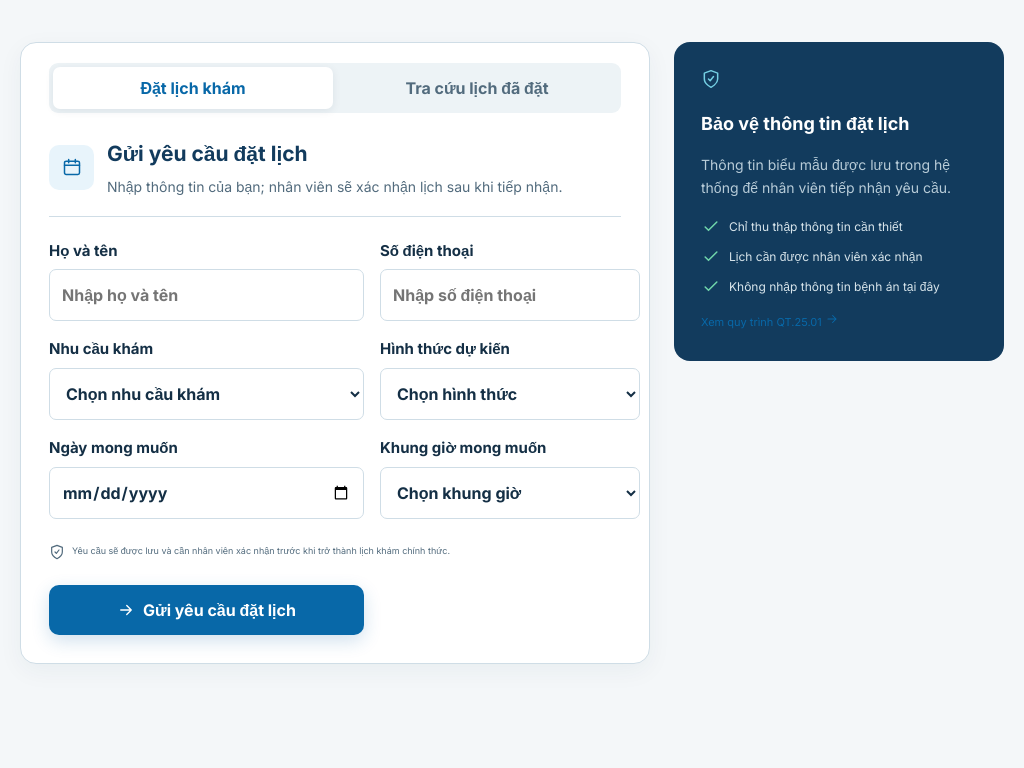
Test: Các luồng tiếng Việt hoàn chỉnh › lưu yêu cầu đặt lịch và giải thích rõ trạng thái
Type "Nguyễn Văn An" into the field labelled "Họ và tên" at (206,296), box [49,270,364,322]
Type "0987 000 042" into the field labelled "Số điện thoại" at (510,296), box [380,270,640,322]
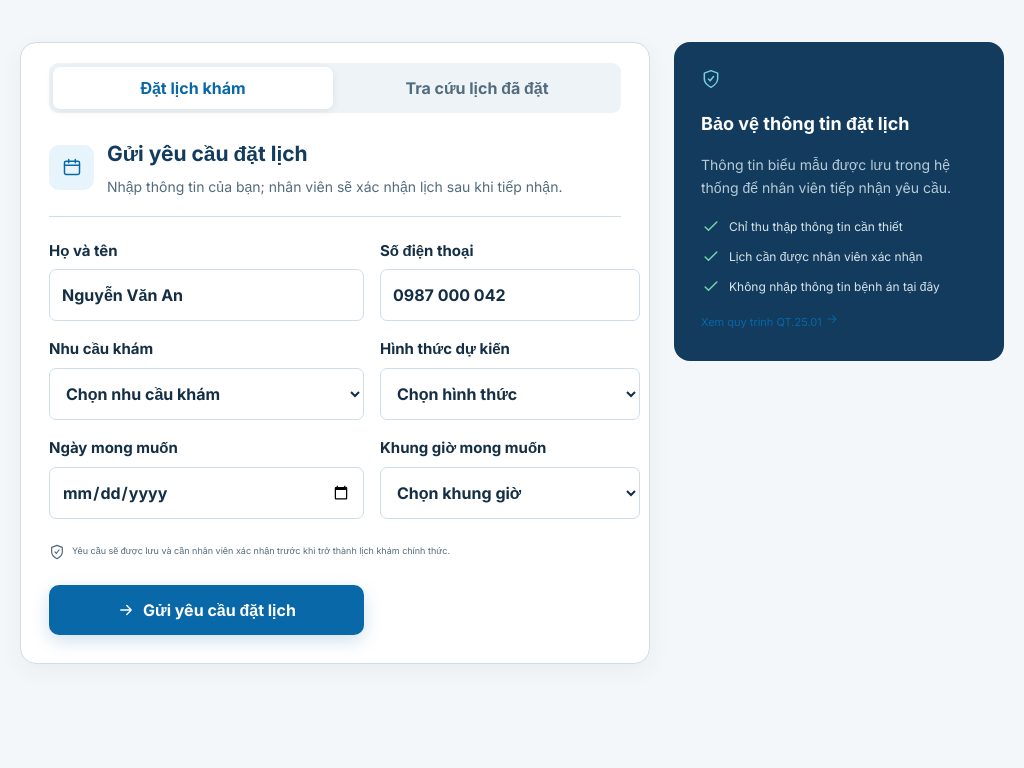
Select "Khám Tim mạch tổng quát" in the dropdown labelled "Nhu cầu khám" at (206,394), box [49,368,364,420]
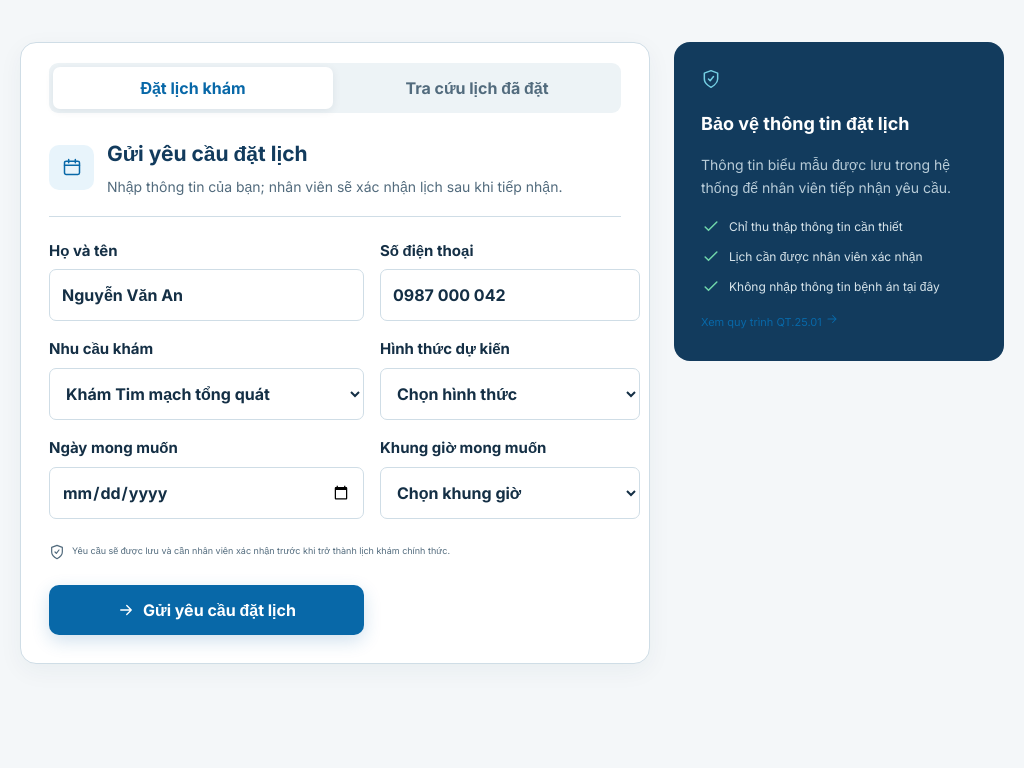
Select "Bảo hiểm y tế" in the dropdown labelled "Hình thức dự kiến" at (510,394), box [380,368,640,420]
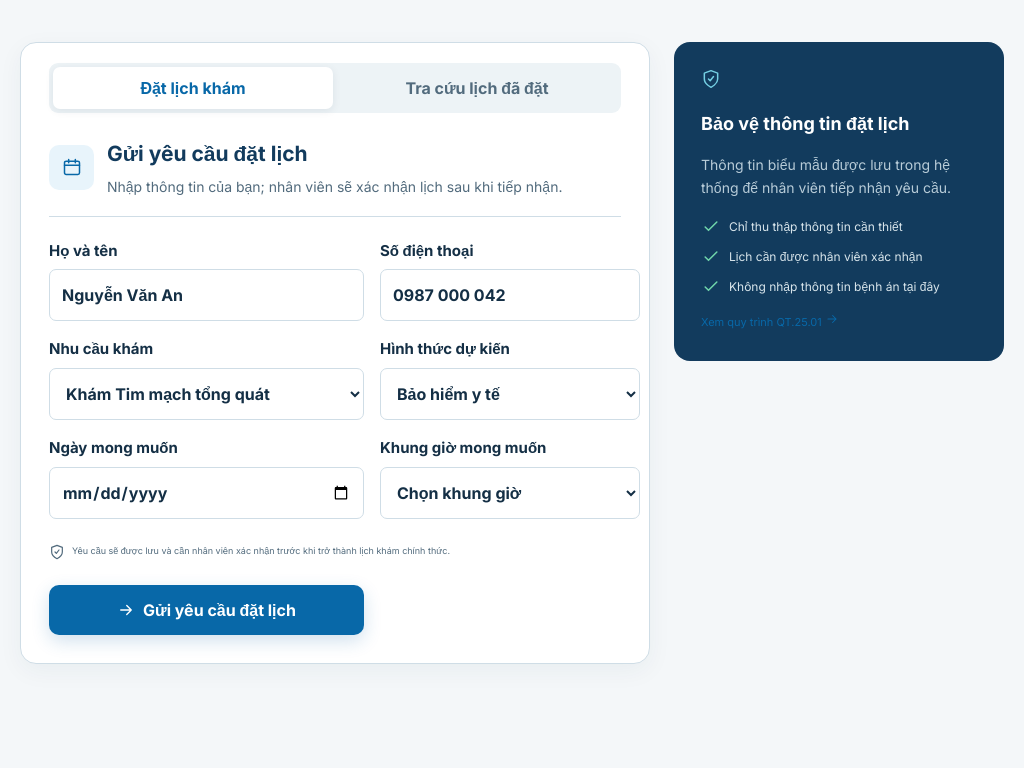
Type "2026-07-20" into the date field labelled "Ngày mong muốn" at (206,493), box [49,467,364,519]
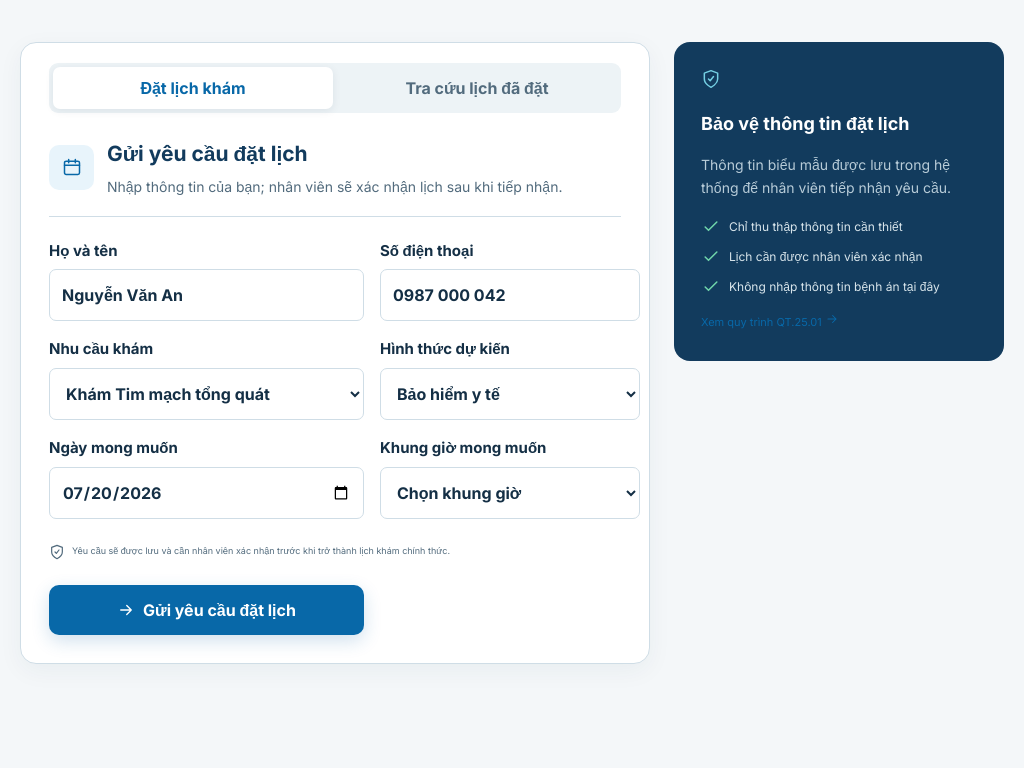
Select "Buổi sáng" in the dropdown labelled "Khung giờ mong muốn" at (510,493), box [380,467,640,519]
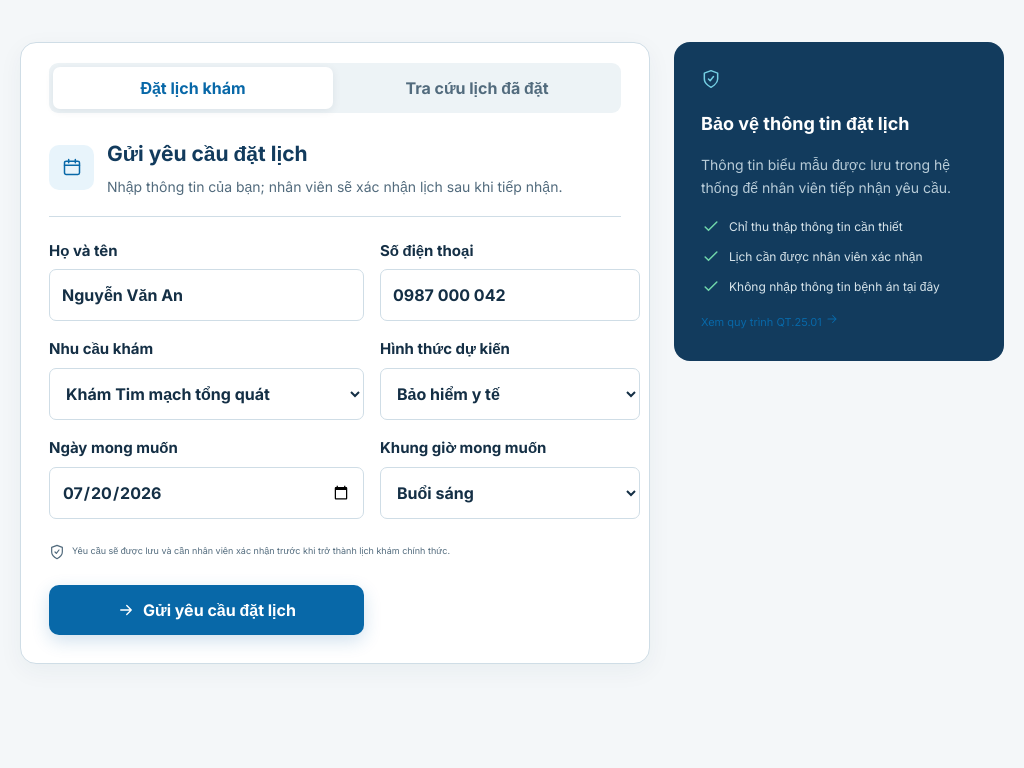
Click the button "Gửi yêu cầu đặt lịch" at (206,610), box [49,585,364,635]
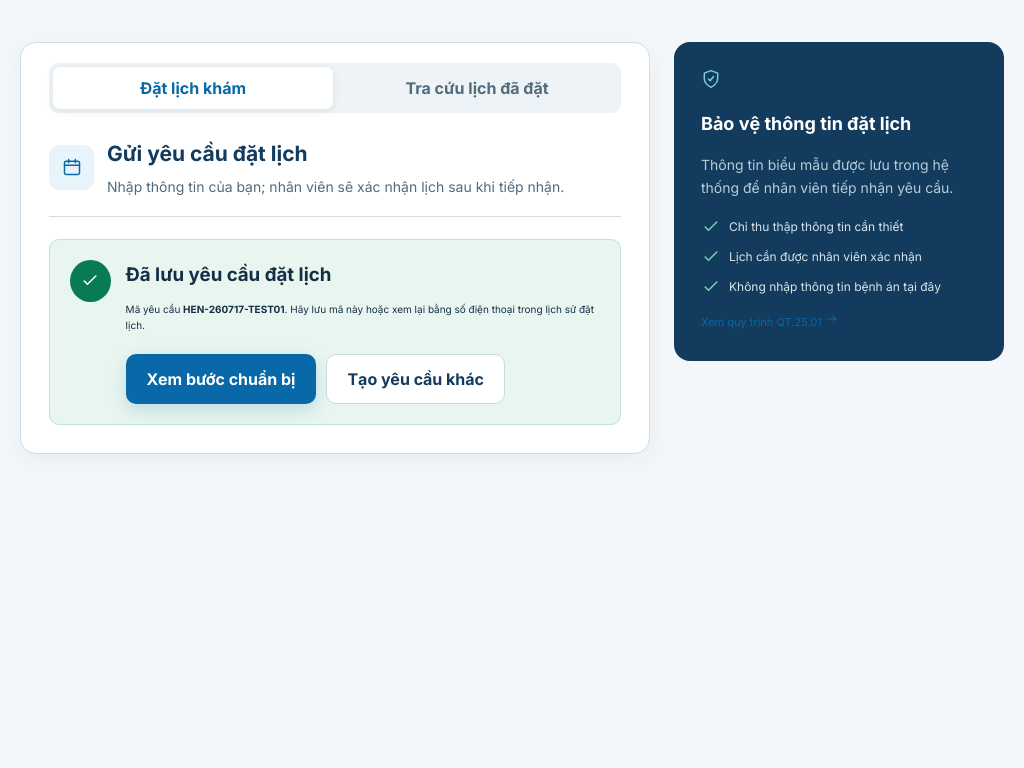
Expected: the heading "Đã lưu yêu cầu đặt lịch" is shown, [126,263,331,286]
Expected: the text "HEN-260717-TEST01" is shown, [183,303,285,315]
